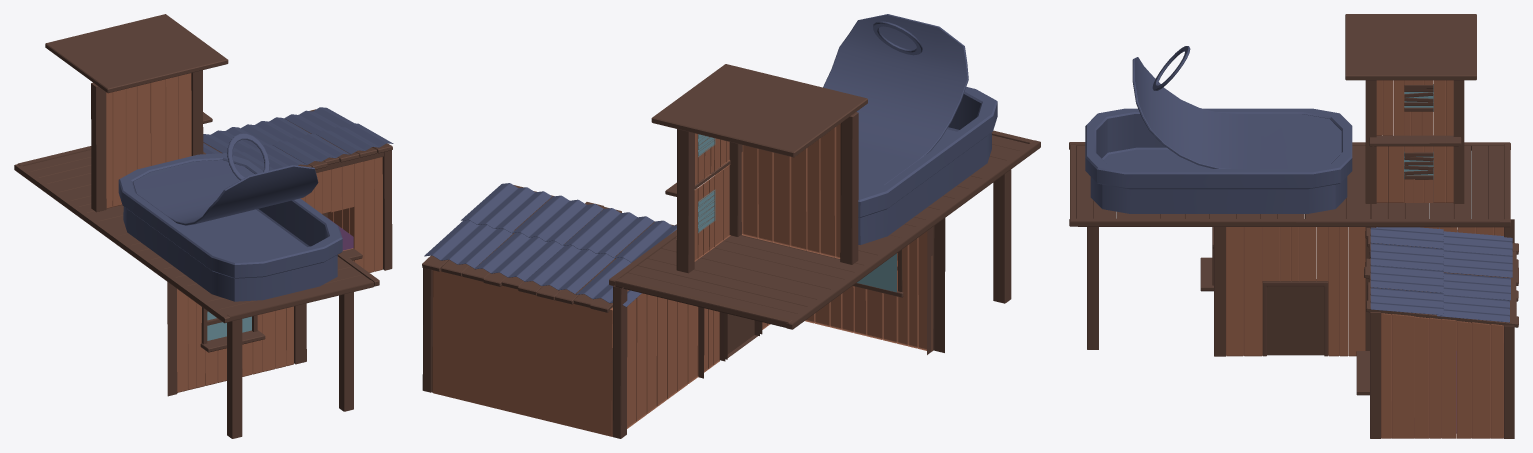
Rendered from GPE_Cabane.fbx.
The picture shows the model from 3 angles, left to right: view 1: azimuth 30°, elevation 25°; view 2: azimuth 150°, elevation 25°; view 3: azimuth 270°, elevation 25°; orthographic projection. The views are drawn at different scales.
Visible parts, largest first — view 1: BoiteConserve, Batpart05, CouvercleConserve, Planche_Toit_101, Planche_Toit_186, Poto_04, Poto_01, Planche_Toit_174, Planche_Toit_55, Planche_Toit_171, Toiture_Taule_01, Toiture_Taule_02 (+36 smaller); view 2: BlockDerriere, CouvercleConserve, Batpart05, BoiteConserve, Planche_Toit_101, Planche_Toit_186, Planche_Toit_185, Toiture_Taule_01, Toiture_Taule_02, Toiture_Taule_03, Poto_04, Toiture_Taule_07 (+41 smaller); view 3: BoiteConserve, CouvercleConserve, Batpart05, Porte_BatPart_01, Planche_Toit_125, Planche_Toit_87, Planche_Toit_22, Planche_Toit_20, Planche_Toit_92, Planche_Toit_27, Planche_Toit_88, Planche_Toit_90 (+46 smaller).
Boxes of the visible parts, x1,y1,x2,y2 form: BoiteConserve: [118, 153, 342, 301]; Batpart05: [45, 14, 228, 93]; CouvercleConserve: [133, 160, 318, 225]; Planche_Toit_101: [14, 164, 229, 323]; Planche_Toit_186: [91, 82, 106, 212]; Poto_04: [227, 319, 242, 438]; Poto_01: [339, 292, 353, 411]; Planche_Toit_174: [112, 89, 125, 206]; Planche_Toit_55: [363, 159, 374, 272]; Planche_Toit_171: [150, 79, 165, 165]; Toiture_Taule_01: [316, 123, 393, 154]; Toiture_Taule_02: [273, 133, 349, 164]; BlockDerriere: [432, 270, 612, 436]; CouvercleConserve: [823, 14, 968, 193]; Batpart05: [651, 64, 867, 157]; BoiteConserve: [858, 87, 997, 244]; Planche_Toit_101: [786, 140, 1040, 329]; Planche_Toit_186: [840, 112, 858, 264]; Planche_Toit_185: [676, 129, 694, 273]; Toiture_Taule_01: [461, 183, 551, 232]; Toiture_Taule_02: [512, 195, 603, 245]; Toiture_Taule_03: [563, 208, 654, 257]; Poto_04: [993, 169, 1011, 303]; Toiture_Taule_07: [524, 245, 614, 293]; BoiteConserve: [1085, 108, 1352, 213]; CouvercleConserve: [1132, 57, 1341, 168]; Batpart05: [1345, 14, 1476, 80]; Porte_BatPart_01: [1267, 286, 1324, 355]; Planche_Toit_125: [1069, 218, 1510, 227]; Planche_Toit_87: [1392, 314, 1414, 438]; Planche_Toit_22: [1243, 227, 1262, 356]; Planche_Toit_20: [1226, 227, 1243, 356]; Planche_Toit_92: [1471, 322, 1490, 438]; Planche_Toit_27: [1348, 227, 1365, 356]; Planche_Toit_88: [1414, 316, 1429, 438]; Planche_Toit_90: [1441, 319, 1456, 438].
Size of the model in its own units: 1094 by 875 by 1299.
